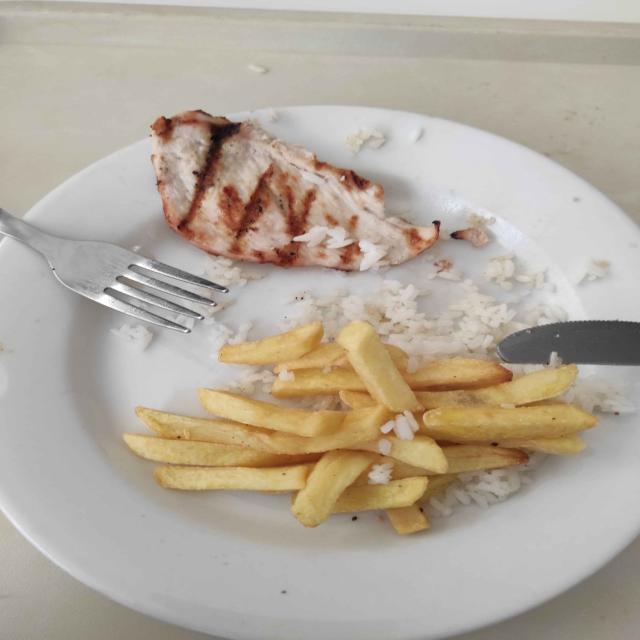board: (0, 2, 640, 640)
fork: (0, 208, 229, 333)
french fries: (124, 321, 598, 531)
grilled steak: (151, 111, 438, 270)
knife: (496, 320, 640, 366)
plate: (0, 106, 640, 640)
rice: (279, 256, 569, 362), (426, 458, 539, 517), (559, 372, 632, 414)
